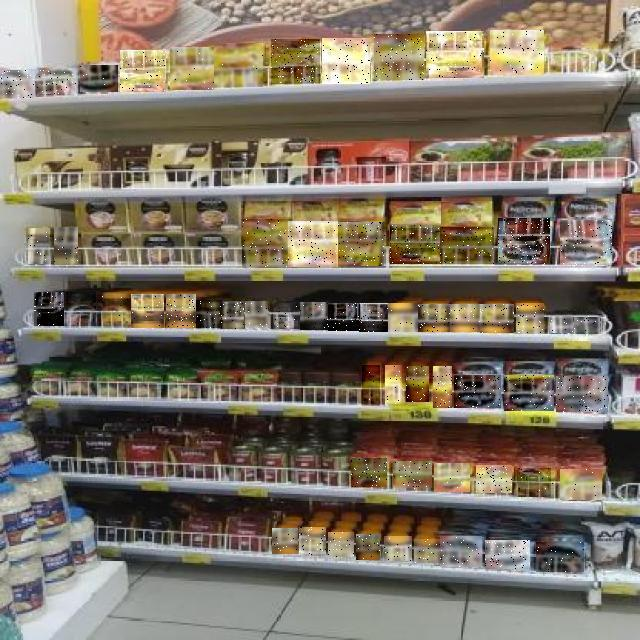Coffee: (427, 31, 485, 78), (490, 30, 544, 75), (242, 219, 292, 267), (498, 219, 550, 265), (560, 220, 612, 265), (374, 34, 424, 80), (288, 221, 338, 267), (322, 38, 370, 84), (271, 39, 320, 84), (338, 222, 386, 266), (214, 44, 263, 87), (440, 227, 494, 264), (390, 225, 441, 264), (120, 50, 166, 92), (171, 47, 215, 90), (557, 377, 609, 413), (504, 375, 554, 411), (454, 375, 501, 408), (536, 542, 584, 572), (485, 540, 530, 569), (561, 469, 603, 500), (441, 536, 483, 567), (131, 294, 164, 328), (36, 69, 78, 95), (393, 462, 432, 490), (99, 294, 131, 328), (66, 292, 96, 328), (435, 463, 471, 492), (518, 468, 554, 497), (351, 458, 387, 487), (80, 65, 118, 92), (34, 292, 64, 326), (166, 294, 196, 328), (476, 465, 512, 493), (481, 304, 515, 333), (0, 70, 35, 98), (54, 227, 78, 265), (328, 303, 360, 331), (450, 305, 482, 333), (418, 305, 450, 333), (359, 303, 389, 332), (388, 303, 418, 332), (516, 303, 544, 334), (406, 366, 429, 402), (433, 366, 452, 408), (28, 228, 50, 264), (301, 302, 329, 330), (299, 528, 326, 556), (362, 365, 380, 406), (196, 301, 222, 329), (386, 366, 404, 406), (385, 536, 413, 561), (273, 528, 299, 554), (246, 302, 270, 330), (328, 532, 354, 557), (221, 302, 245, 329), (274, 302, 298, 329), (357, 534, 381, 560), (414, 539, 440, 563), (575, 318, 601, 334), (550, 316, 573, 333)
